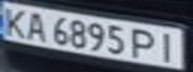5: (106, 22, 130, 56)
6: (45, 15, 72, 46)
8: (66, 17, 87, 50)
9: (84, 20, 109, 53)
A: (21, 10, 51, 43)
I: (151, 29, 184, 63)
K: (0, 4, 33, 37)
P: (127, 26, 163, 61)
